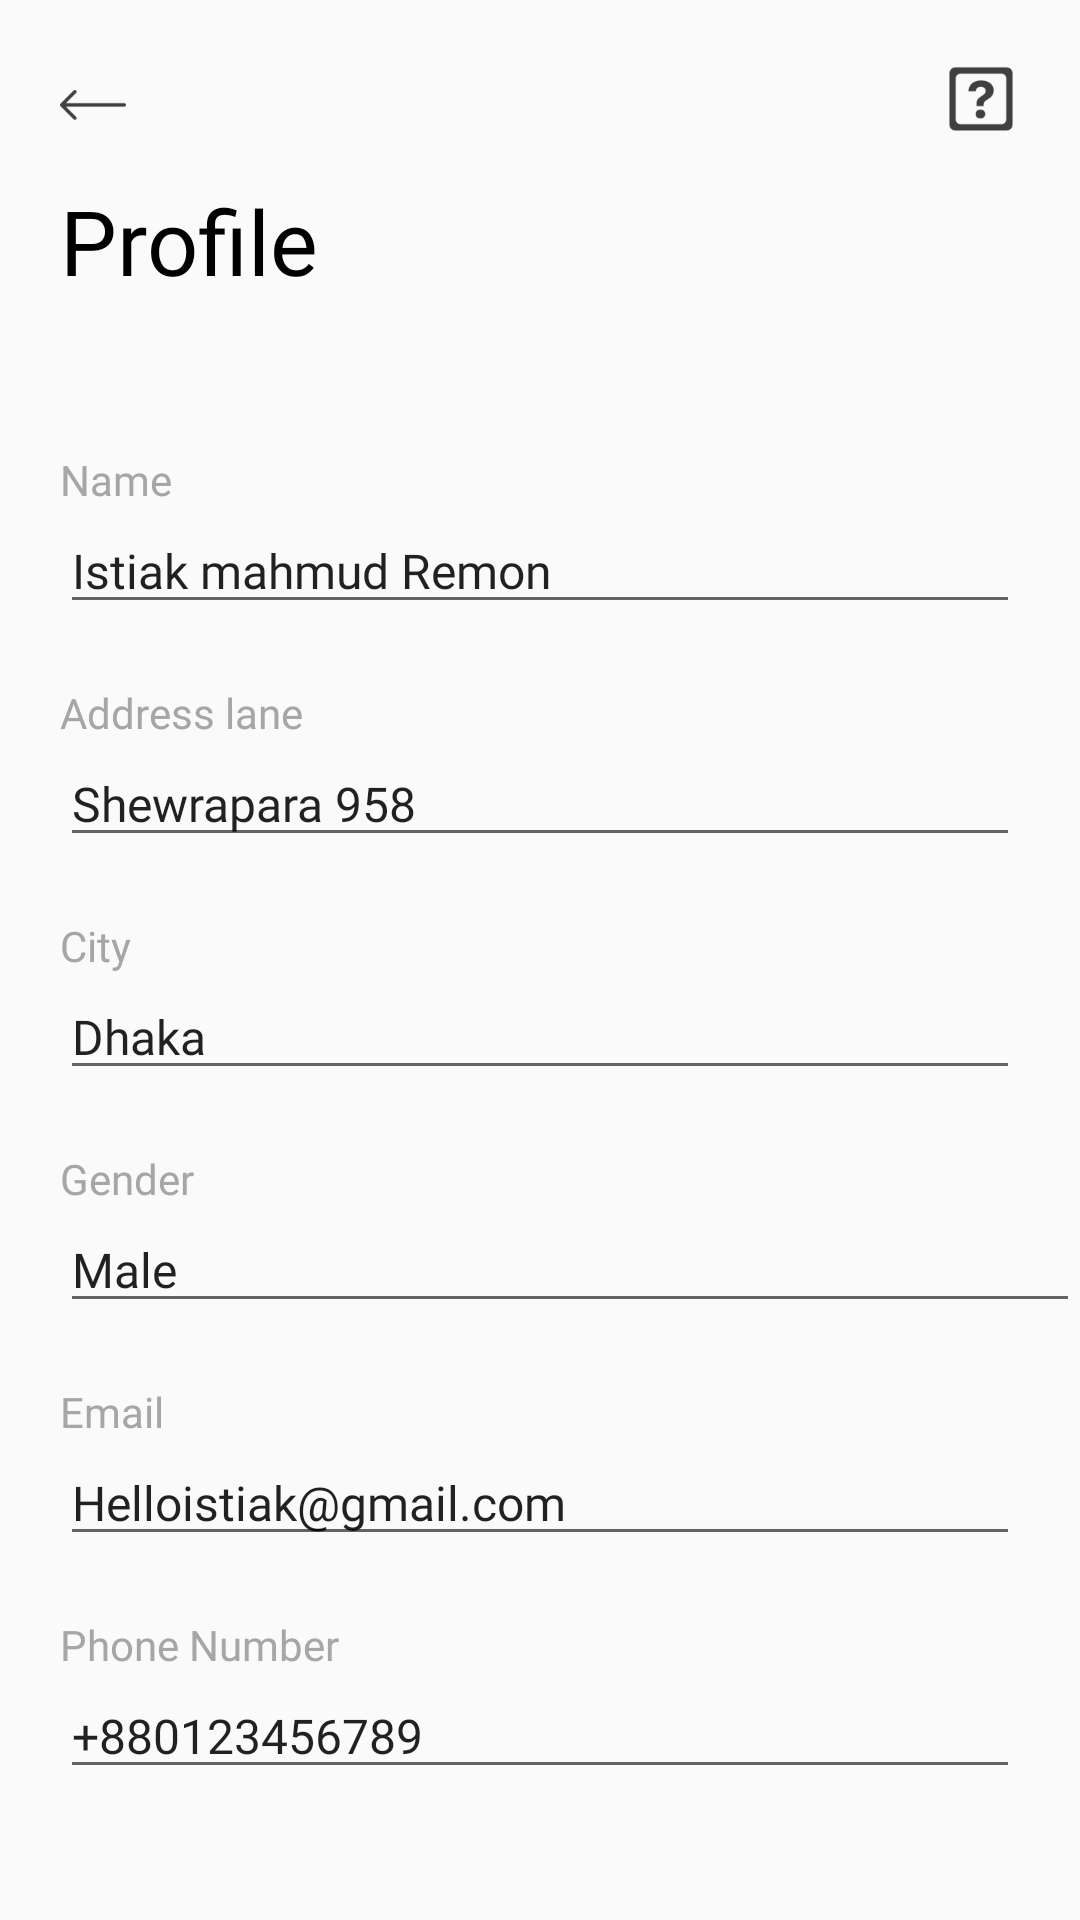

Point at icon controls on the screen. Image size 1080x1920, points as point (x, y).
ask: point (981, 99)
